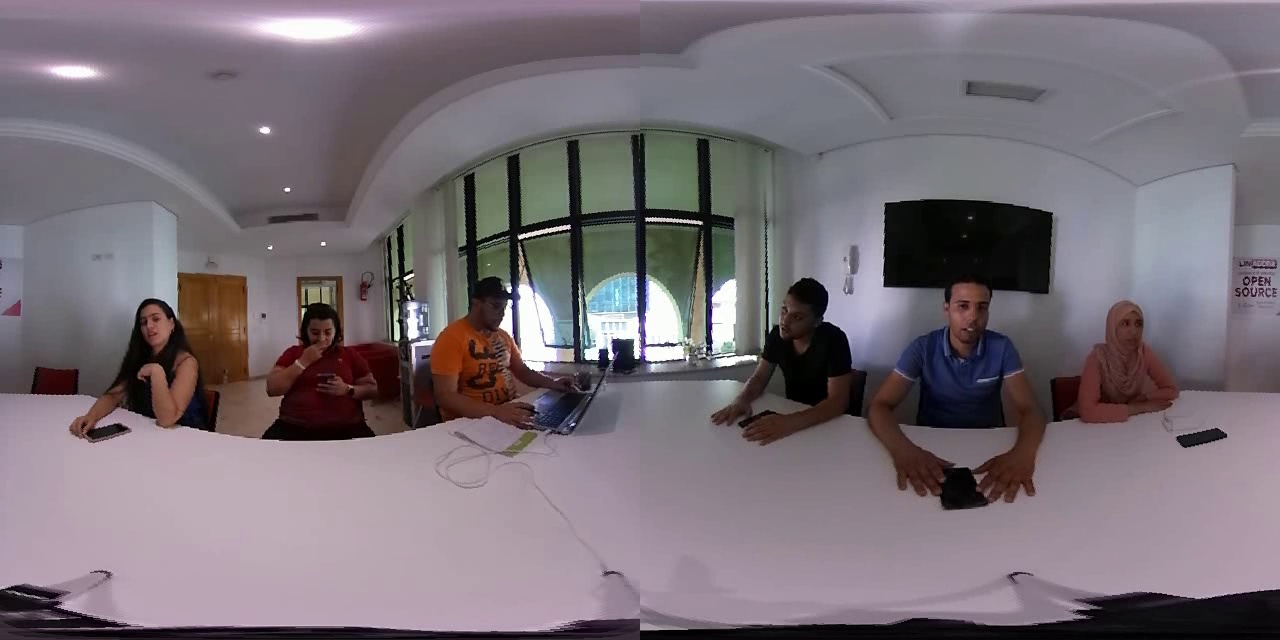person: (864, 255, 1053, 483), (713, 255, 865, 453), (410, 260, 567, 431), (245, 285, 386, 447), (79, 279, 206, 436), (1068, 281, 1183, 430)
